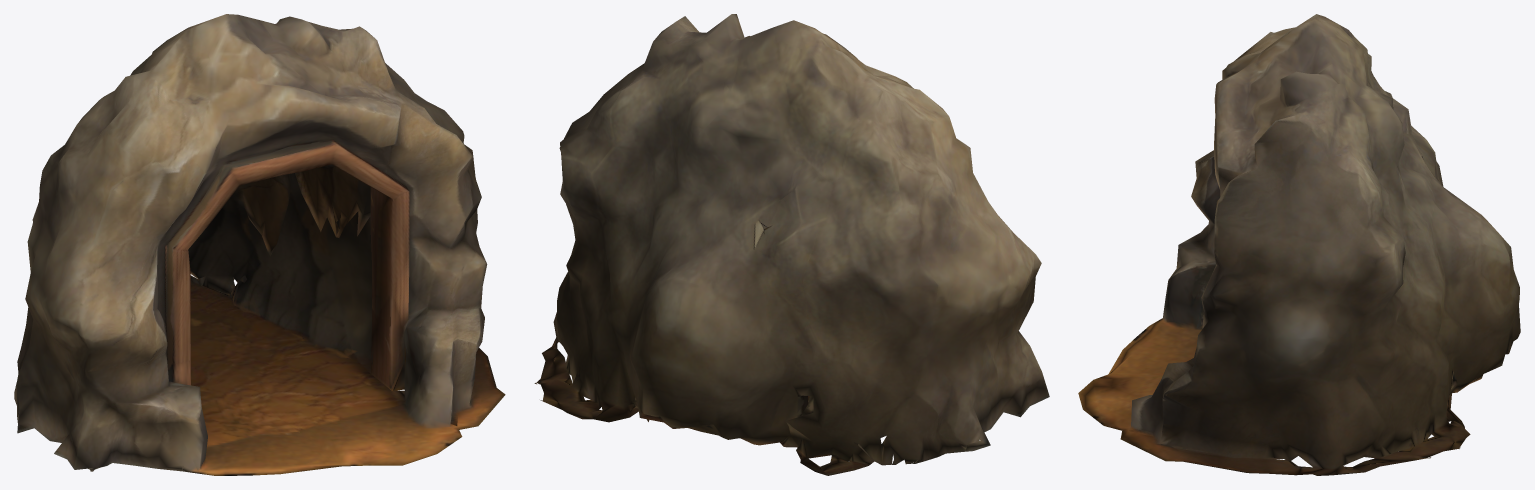
The model's file is cave.glb.
The picture shows the model from 3 angles, left to right: view 1: azimuth 30°, elevation 25°; view 2: azimuth 150°, elevation 25°; view 3: azimuth 270°, elevation 25°; orthographic projection. The views are drawn at different scales.
Visible parts, largest first — view 1: Mesh_0; view 2: Mesh_0; view 3: Mesh_0.
Boxes of the visible parts, box(x1,y1,x2,y2) form: Mesh_0: box(14, 14, 505, 475); Mesh_0: box(534, 14, 1049, 475); Mesh_0: box(1078, 14, 1520, 475).
Bounding box in the file's own units: 2 × 1.64 × 1.86.
1 material, 1 textured.
